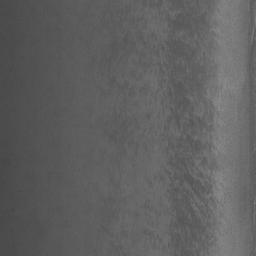Silk spot: (92, 0, 230, 256), (111, 242, 126, 256)
